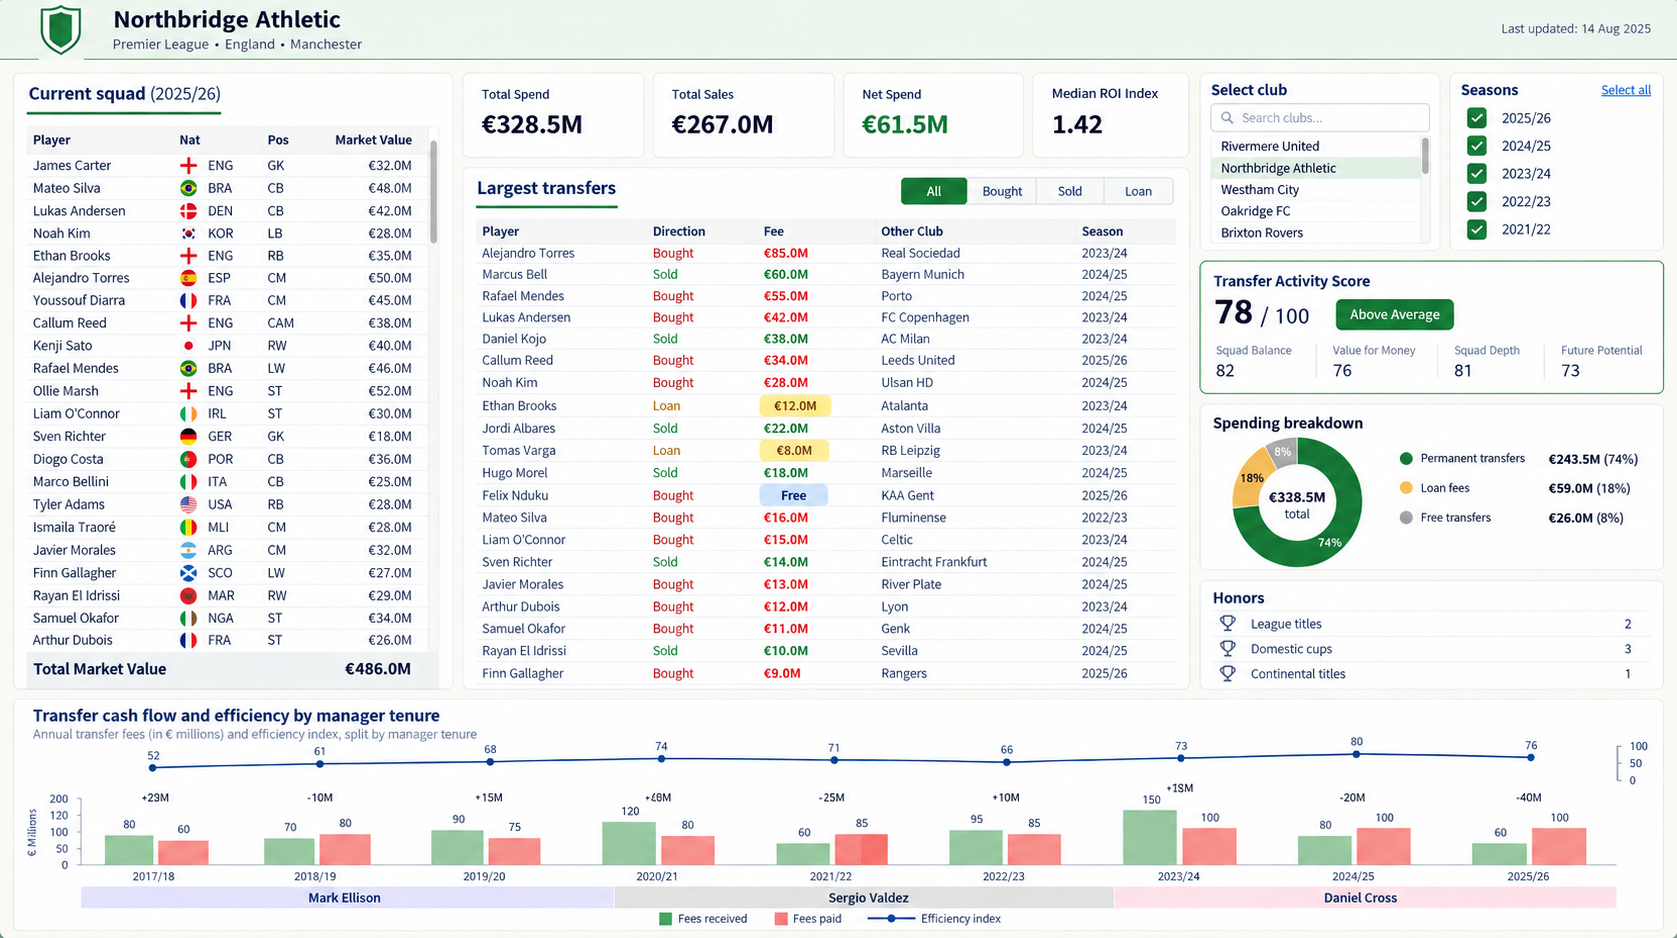

Layout of this report page (visuals, bound fields, positions):
{"tool":"powerbi","page":{"name":"Club Breakdown","canvas":[1920,1080],"ordinal":1},"visuals":[{"type":"barChart","fields":{"Series":["presentation vw_cashflow_and_tenure.manager_name"],"Y":["CountNonNull(presentation vw_cashflow_and_tenure.season)"]},"box":[7.5,978,1892.3,87.9],"z":0},{"type":"cardVisual","fields":{"Data":["Sum(presentation vw_current_squad.minutes)"]},"box":[0,0,1920,155.7],"z":1000},{"type":"cardVisual","fields":{"Data":["Sum(presentation vw_current_squad.minutes)"]},"box":[8.6,0,1330,151.4],"z":2000},{"type":"slicer","fields":{"Values":["DimClub.club_name"]},"box":[1345,10,280,135],"z":3000},{"type":"slicer","fields":{"Values":["presentation vw_current_squad.season"]},"box":[1635,10,280,135],"z":4000},{"type":"tableEx","fields":{"Values":["presentation vw_current_squad.player_name","presentation vw_current_squad.nationality_code","presentation vw_current_squad.position_short","presentation vw_current_squad.Market Value Millions"]},"box":[7.5,166.4,445,632],"z":5000},{"type":"cardVisual","fields":{"Data":["Sum(presentation vw_cashflow_and_tenure.fees_paid_eur)"]},"box":[620,47.1,164.6,89.8],"z":6000},{"type":"cardVisual","fields":{"Data":["Sum(presentation vw_cashflow_and_tenure.fees_received_eur)"]},"box":[795,47,157.1,89.8],"z":7000},{"type":"cardVisual","fields":{"Data":["Sum(presentation vw_cashflow_and_tenure.net_spend_eur)"]},"box":[965,47.1,168.3,89.8],"z":8000},{"type":"cardVisual","fields":{"Data":["presentation vw_cashflow_and_tenure.Club ROI Index"]},"box":[1145.7,47.1,167.1,90],"z":9000},{"type":"tableEx","title":"Largest Transfers","fields":{"Values":["presentation vw_transfers_detail.player_name","presentation vw_transfers_detail.direction","presentation vw_transfers_detail.Fee Millions","presentation vw_transfers_detail.other_club_name","presentation vw_transfers_detail.season"]},"box":[462.9,165.7,875.7,632.9],"z":10000},{"type":"cardVisual","fields":{"Data":["presentation vw_league_overview.Club Efficiency Score"]},"box":[1345.3,187.1,165.7,150],"z":11000},{"type":"multiRowCard","fields":{"Values":["presentation vw_league_overview.Club Trading Profit","presentation vw_league_overview.Club Value Growth","presentation vw_league_overview.Club Sporting Return"]},"box":[1510.6,187.1,388.6,150],"z":12000},{"type":"donutChart","title":"Spending Breakdown","fields":{"Category":["presentation vw_transfers_detail.Spend Type"],"Y":["Sum(presentation vw_transfers_detail.fee_eur)"]},"box":[1347.5,344,553.8,340],"z":13000},{"type":"tableEx","fields":{"Values":["Sum(presentation vw_club_trophies_honors.league_titles)","Sum(presentation vw_club_trophies_honors.domestic_cups)","Sum(presentation vw_club_trophies_honors.european_trophies)"]},"box":[1343.8,690,555,109],"z":14000},{"type":"lineClusteredColumnComboChart","title":"Transfer cash flow and efficiency","fields":{"Category":["presentation vw_cashflow_and_tenure.season"],"Y":["Sum(presentation vw_cashflow_and_tenure.fees_paid_eur)","Sum(presentation vw_cashflow_and_tenure.fees_received_eur)"],"Y2":["Sum(presentation vw_cashflow_and_tenure.efficiency_index)"]},"box":[7.5,811.5,1892,194],"z":15000},{"type":"image","box":[0,0,168.3,155.2],"z":16000},{"type":"cardVisual","fields":{"Data":["Min(presentation vw_league_overview.club_name)"]},"box":[142.1,0,613.3,46.7],"z":17000},{"type":"cardVisual","fields":{"Data":["presentation vw_league_overview.Club Subtitle"]},"box":[142.1,11.2,460,166.4],"z":18000},{"type":"shape","box":[471.2,200.1,299.2,35.5],"z":19000},{"type":"slicer","fields":{"Values":["presentation vw_transfers_detail.direction_filter"]},"box":[770.4,177.6,542.3,43],"z":20000},{"type":"shape","box":[18.9,198.9,299.2,35.5],"z":21000},{"type":"shape","box":[1353.8,729.3,534.8,31.8],"z":22000},{"type":"cardVisual","fields":{"Data":["presentation vw_league_overview.Club Rank Display"]},"box":[1694.3,262.8,161.7,71.7],"z":22001}]}

Visuals, with their boxes in screenshot pixels (x1, y1, x2, y2), scaled from the page's 1920x1080 canvas onto the 1677x938 screenshot:
barChart - presentation vw_cashflow_and_tenure.manager_name x CountNonNull(presentation vw_cashflow_and_tenure.season): region(7, 849, 1659, 926)
cardVisual - Sum(presentation vw_current_squad.minutes): region(0, 0, 1676, 135)
cardVisual - Sum(presentation vw_current_squad.minutes): region(8, 0, 1169, 131)
slicer - DimClub.club_name: region(1175, 9, 1419, 126)
slicer - presentation vw_current_squad.season: region(1428, 9, 1673, 126)
tableEx - presentation vw_current_squad.player_name x presentation vw_current_squad.nationality_code: region(7, 145, 395, 693)
cardVisual - Sum(presentation vw_cashflow_and_tenure.fees_paid_eur): region(542, 41, 685, 119)
cardVisual - Sum(presentation vw_cashflow_and_tenure.fees_received_eur): region(694, 41, 832, 119)
cardVisual - Sum(presentation vw_cashflow_and_tenure.net_spend_eur): region(843, 41, 990, 119)
cardVisual - presentation vw_cashflow_and_tenure.Club ROI Index: region(1001, 41, 1147, 119)
"Largest Transfers" tableEx: region(404, 144, 1169, 694)
cardVisual - presentation vw_league_overview.Club Efficiency Score: region(1175, 162, 1320, 293)
multiRowCard - presentation vw_league_overview.Club Trading Profit x presentation vw_league_overview.Club Value Growth: region(1319, 162, 1659, 293)
"Spending Breakdown" donutChart: region(1177, 299, 1661, 594)
tableEx - Sum(presentation vw_club_trophies_honors.league_titles) x Sum(presentation vw_club_trophies_honors.domestic_cups): region(1174, 599, 1658, 694)
"Transfer cash flow and efficiency" lineClusteredColumnComboChart: region(7, 705, 1659, 873)
image: region(0, 0, 147, 135)
cardVisual - Min(presentation vw_league_overview.club_name): region(124, 0, 660, 41)
cardVisual - presentation vw_league_overview.Club Subtitle: region(124, 10, 526, 154)
shape: region(412, 174, 673, 205)
slicer - presentation vw_transfers_detail.direction_filter: region(673, 154, 1147, 192)
shape: region(17, 173, 278, 204)
shape: region(1182, 633, 1650, 661)
cardVisual - presentation vw_league_overview.Club Rank Display: region(1480, 228, 1621, 291)
